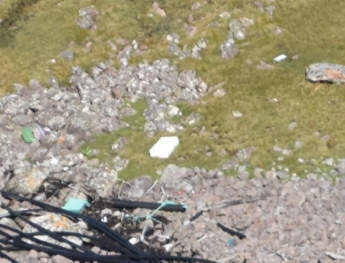more_tube: (2, 187, 139, 263)
straight_bar: (106, 187, 191, 223), (209, 214, 254, 248)
white_in_green: (127, 114, 199, 173), (3, 111, 52, 156), (261, 37, 300, 74)
